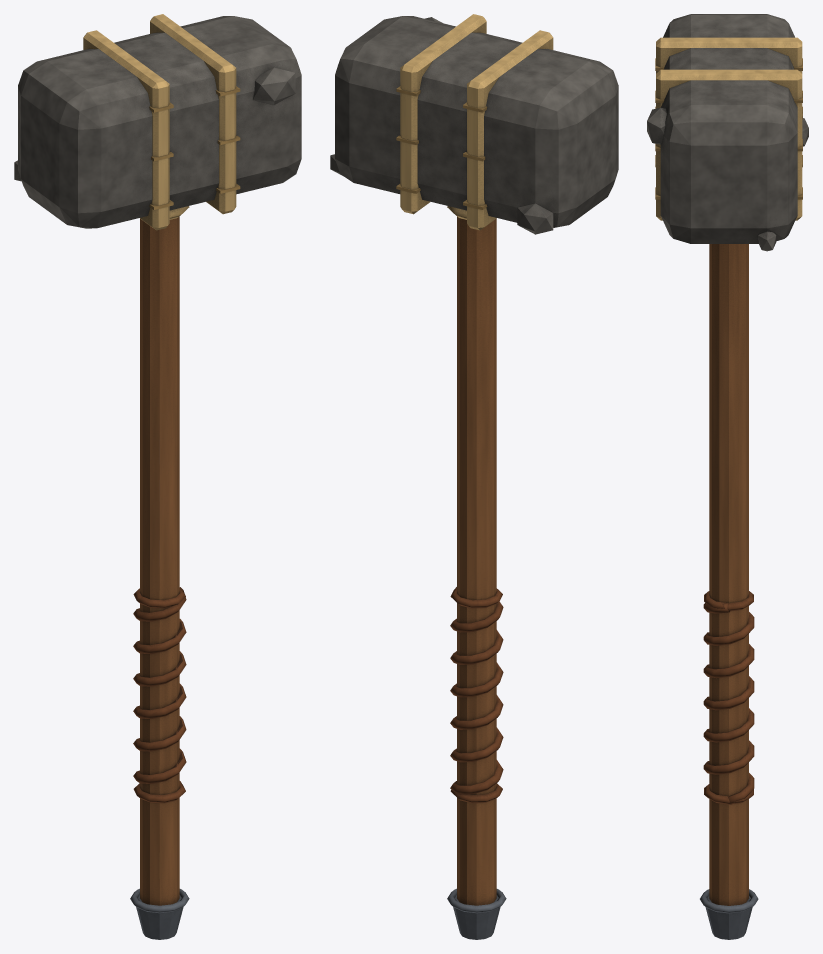
The model's file is 01_plains_heavy.fbx.
The picture shows the model from 3 angles, left to right: view 1: azimuth 30°, elevation 25°; view 2: azimuth 150°, elevation 25°; view 3: azimuth 270°, elevation 25°; orthographic projection.
Parts seen in each view (by area): view 1: Weapon; view 2: Weapon; view 3: Weapon.
Boxes of the visible parts, bbox=[...] form: Weapon: bbox=[14, 14, 301, 939]; Weapon: bbox=[330, 14, 618, 939]; Weapon: bbox=[647, 14, 808, 939].
Bounding box in the file's own units: 40.92 × 140 × 23.43.
1 material, 1 textured.
